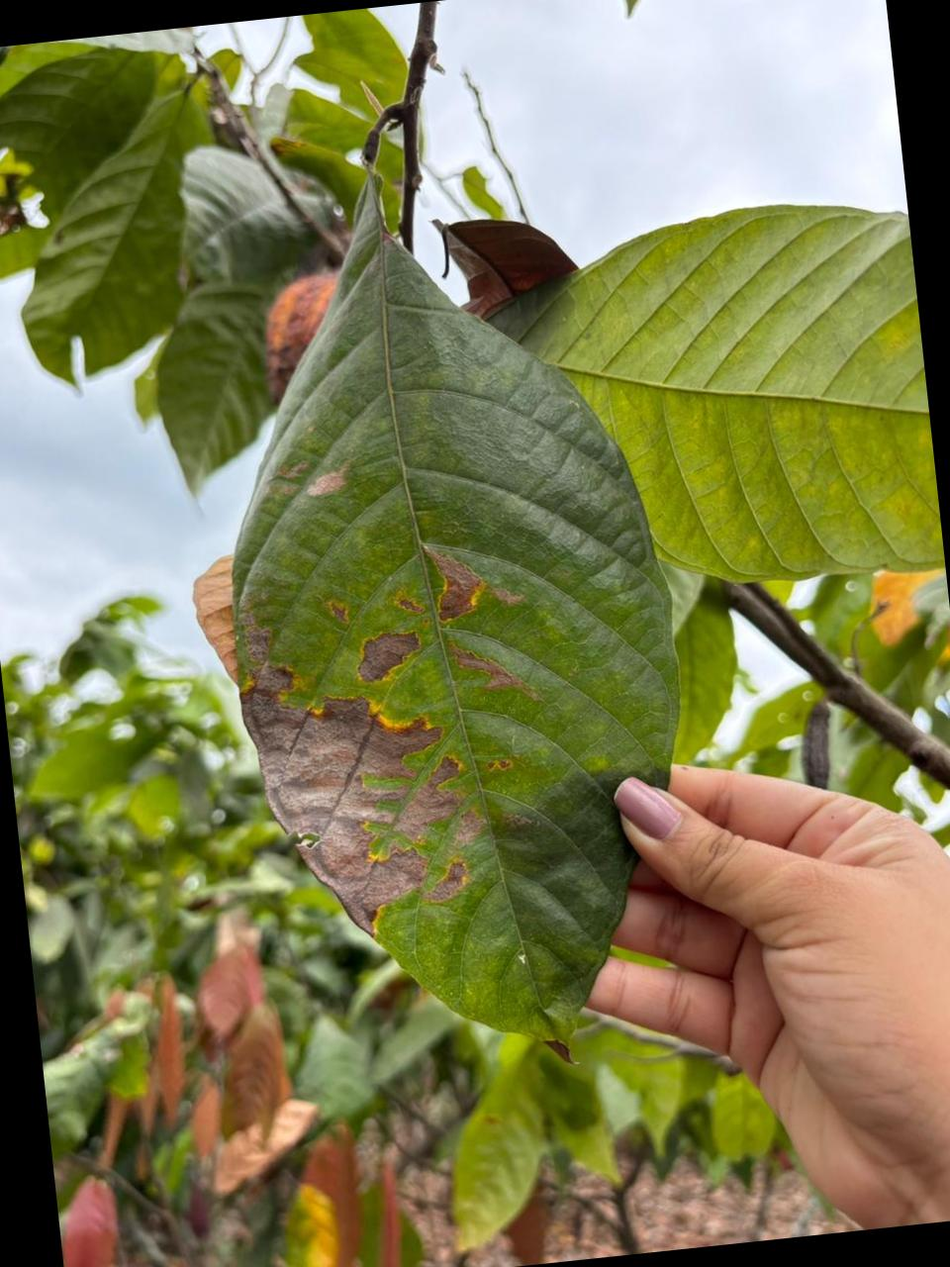Potasio: (235, 177, 678, 1055)
